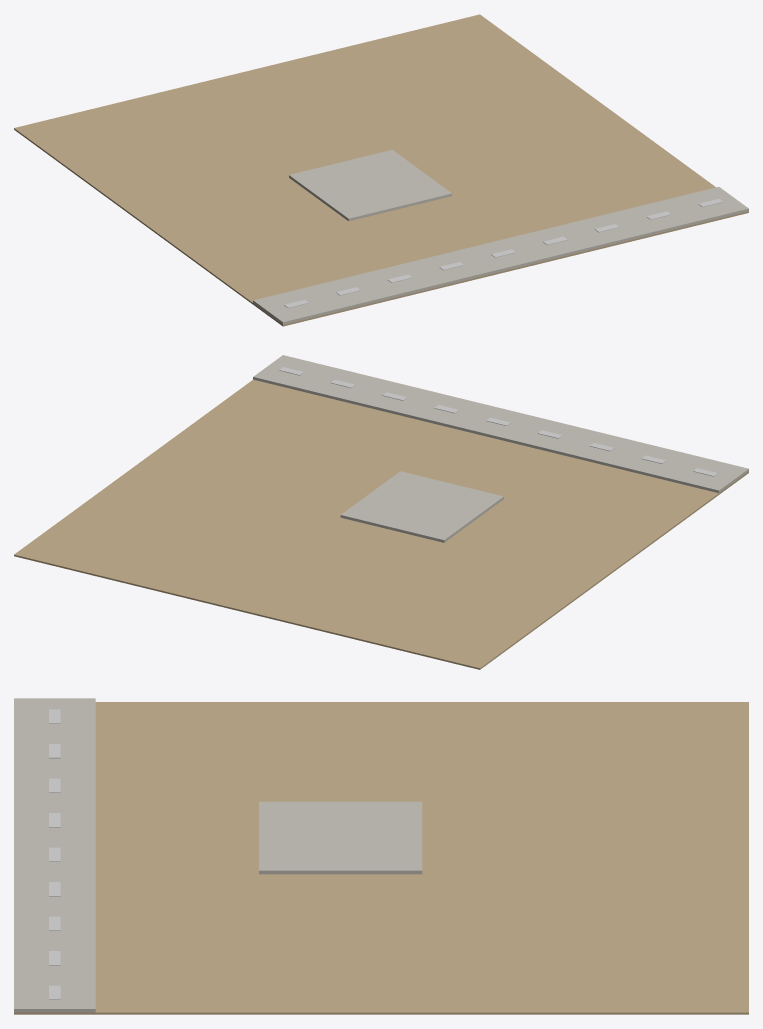
The model's file is stage_01.glb.
The picture shows the model from 3 angles, top to bottom: view 1: azimuth 30°, elevation 25°; view 2: azimuth 150°, elevation 25°; view 3: azimuth 270°, elevation 25°; orthographic projection. The views are drawn at different scales.
Visible parts, largest first — view 1: geometry_0; view 2: geometry_0; view 3: geometry_0.
Boxes of the visible parts, x1=… form: geometry_0: x1=14, y1=14, x2=748, y2=326; geometry_0: x1=14, y1=355, x2=748, y2=669; geometry_0: x1=14, y1=698, x2=748, y2=1014.
Size of the model in its own units: 9 by 0.091 by 9.
